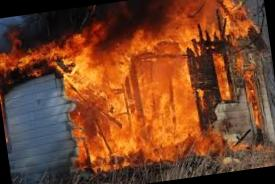Fire: (0, 0, 269, 183)
Smoke: (3, 0, 183, 61)
